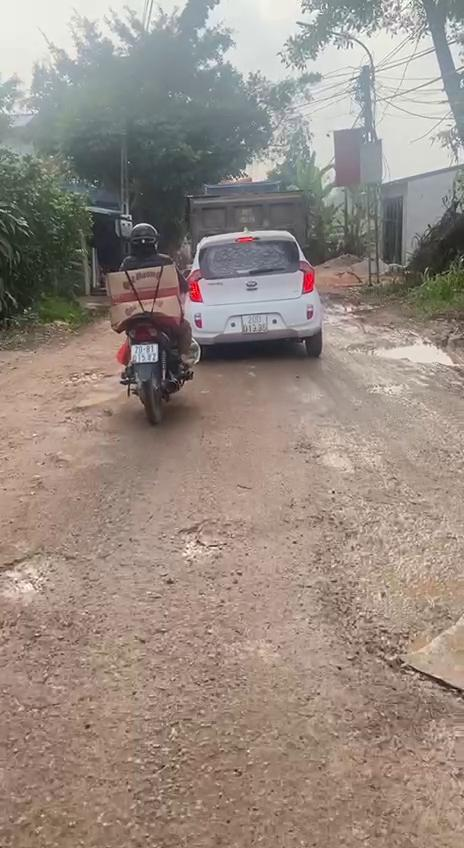pothole: (346, 544, 464, 698), (0, 548, 107, 602), (177, 518, 248, 566), (341, 340, 454, 369), (294, 440, 358, 476), (62, 403, 114, 433), (63, 368, 114, 388)
